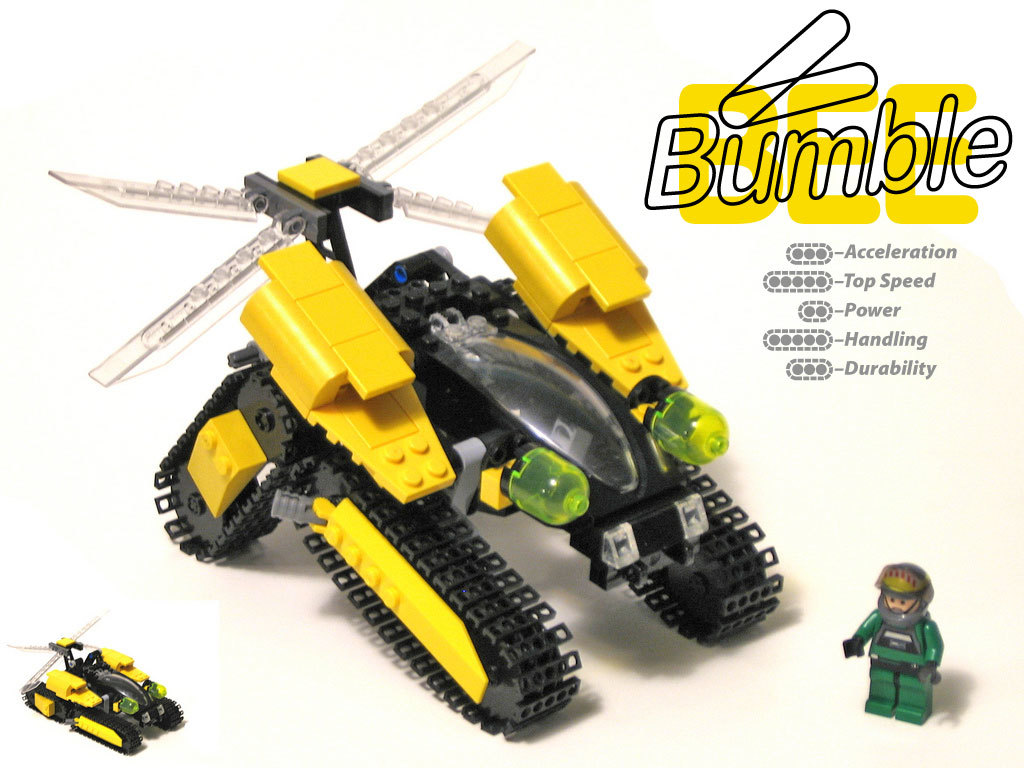Person: (843, 560, 946, 724)
